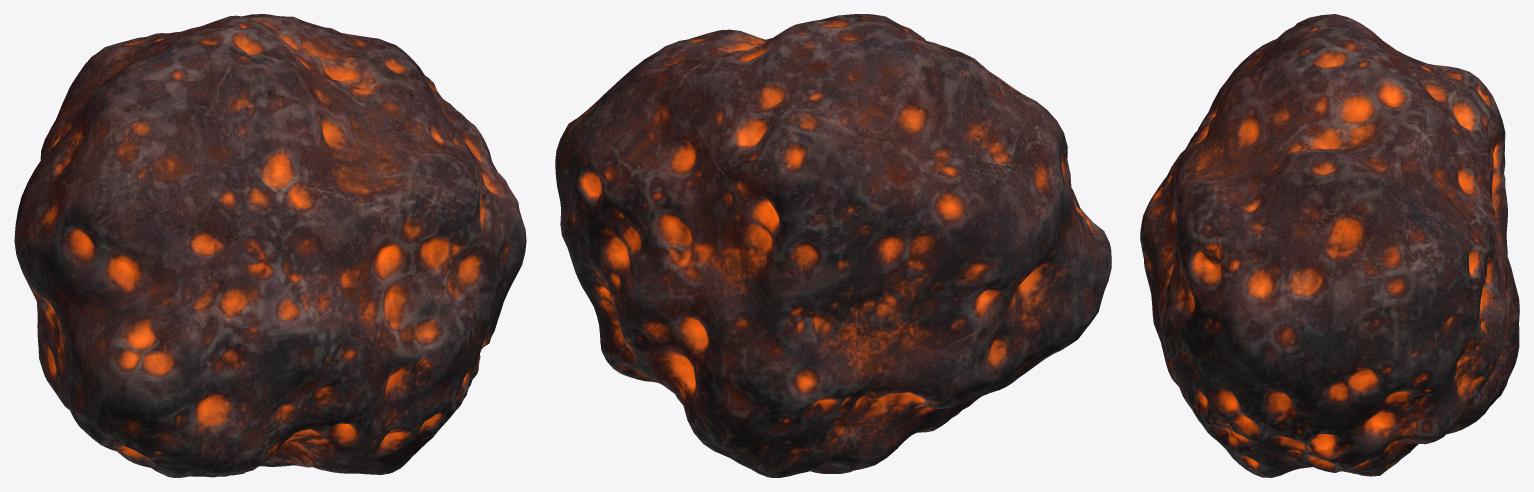
The model's file is meteor.glb.
3 renders of one model, left to right at view 1: azimuth 30°, elevation 25°; view 2: azimuth 150°, elevation 25°; view 3: azimuth 270°, elevation 25°, orthographic. The views are drawn at different scales.
Parts seen in each view (by area): view 1: Object_2; view 2: Object_2; view 3: Object_2.
Part boxes in pixels (x1,y1,x2,y2): Object_2: (14, 14, 526, 477); Object_2: (555, 14, 1111, 477); Object_2: (1140, 14, 1519, 477).
Bounding box in the file's own units: 1.83 × 1.64 × 1.45.
Materials: 1 (1 with a texture image).
